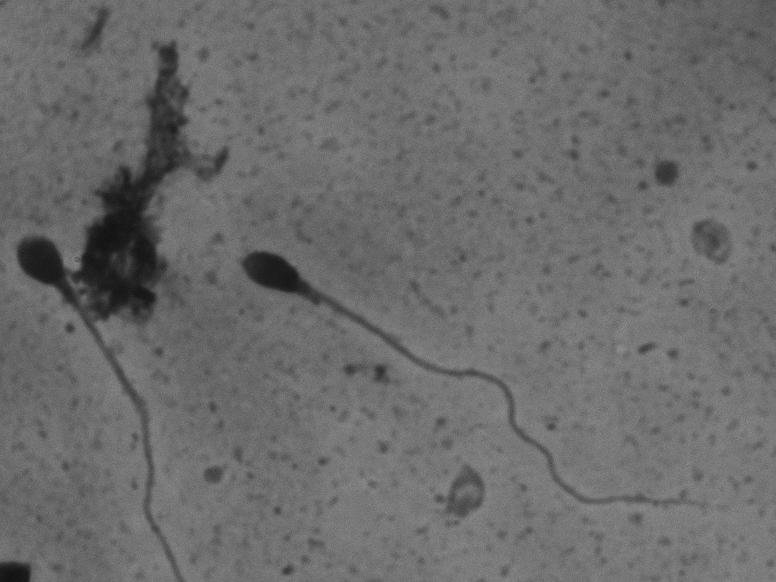Normal: (234, 205, 726, 537), (3, 211, 196, 571)
